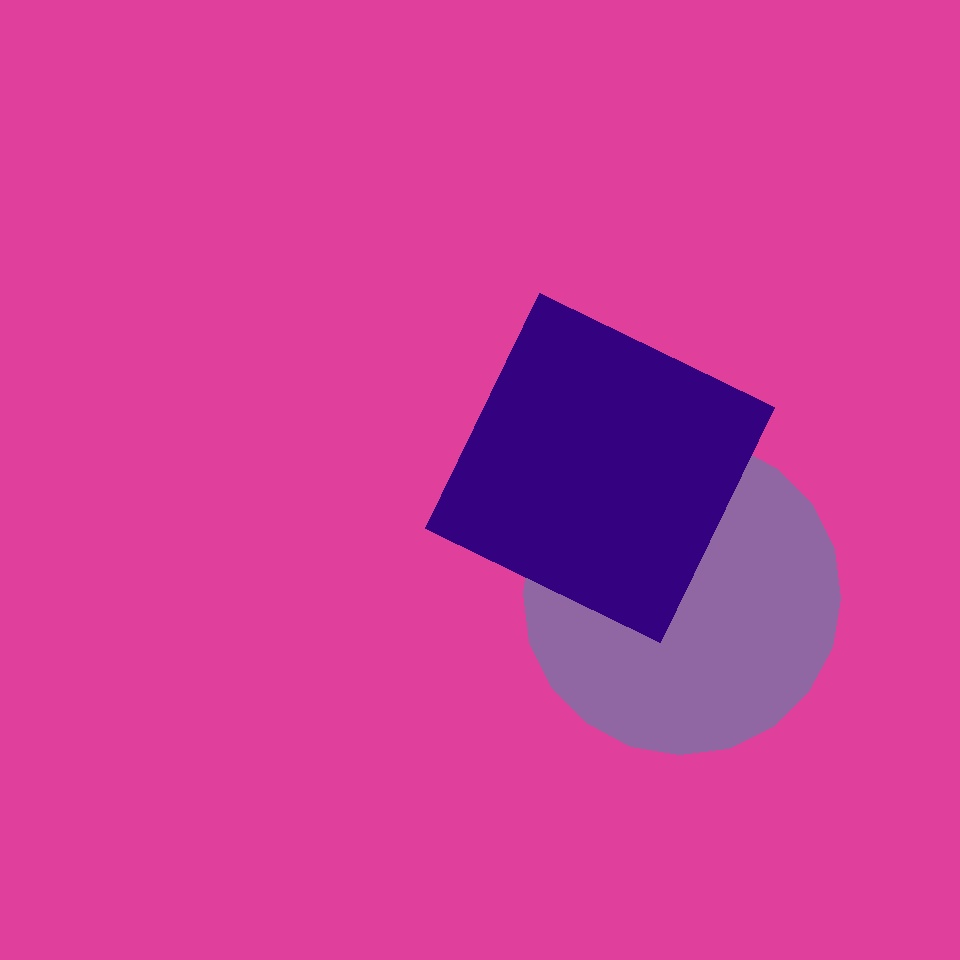circle: (698, 780, 800, 895)
square: (426, 294, 774, 642), (660, 208, 830, 379)
triangle: (20, 635, 341, 955), (524, 438, 840, 754), (650, 320, 894, 564)
